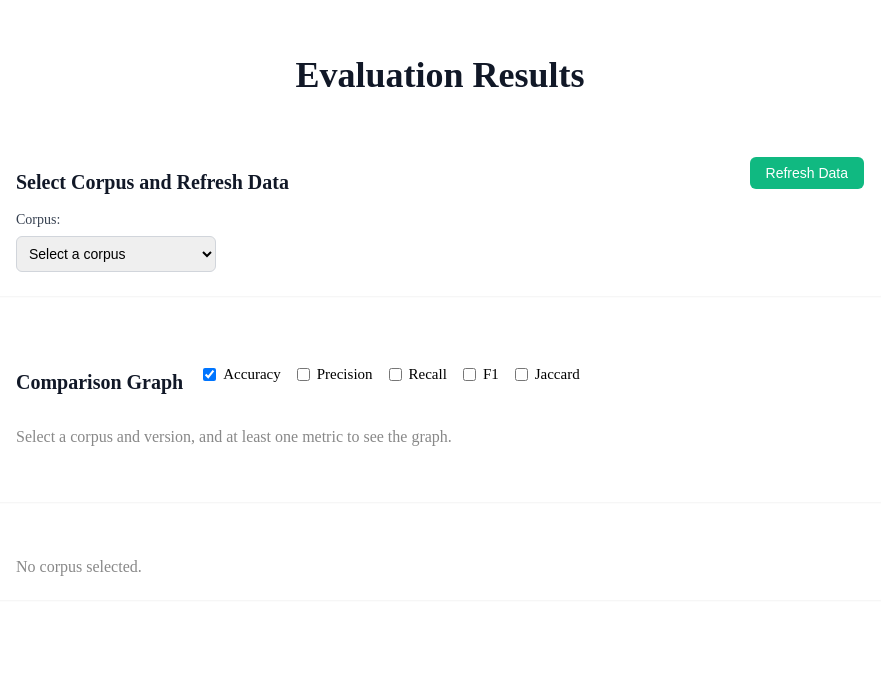
Test: EvaluationPage › shows no data message when no data available for selected corpus and version
The image size is (881, 696).
# Select corpus
Select "gold_corpus" in the dropdown showing "Select a corpus". click: (116, 254)
box: [16,236,216,272]
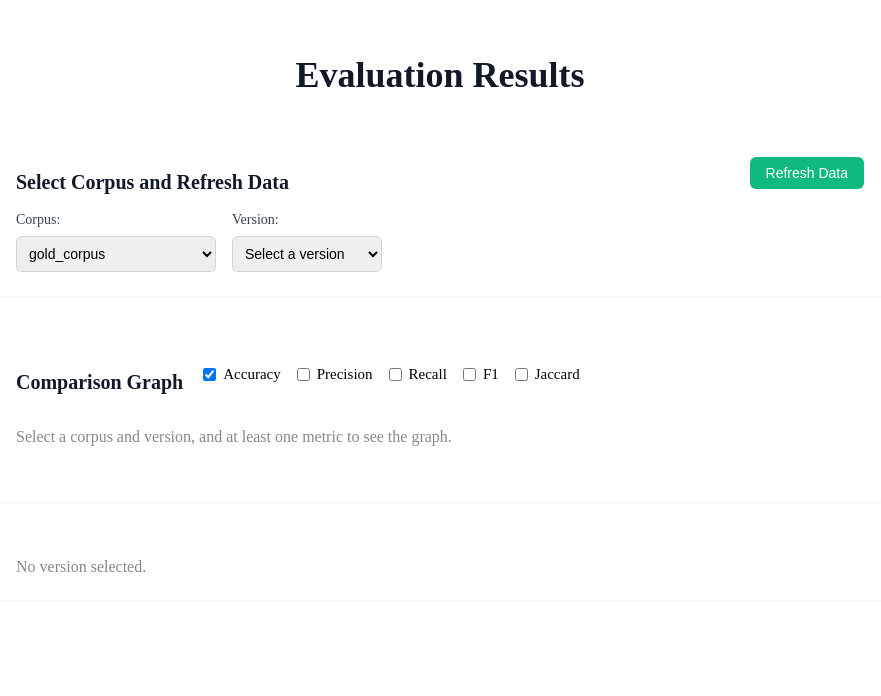
# Select version
Select "v1.0.0" in the dropdown showing "Select a version" below "Version:". click: (307, 254)
box: [232,236,382,272]
(page scrolled)
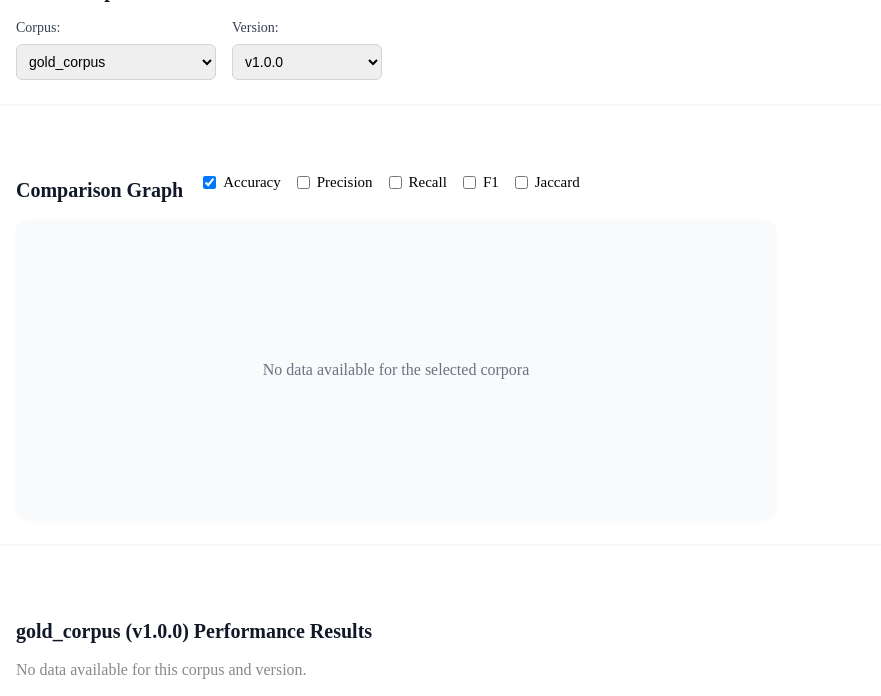
Now the text "No data available for this corpus and version." is shown, box [16,661,307,678]
